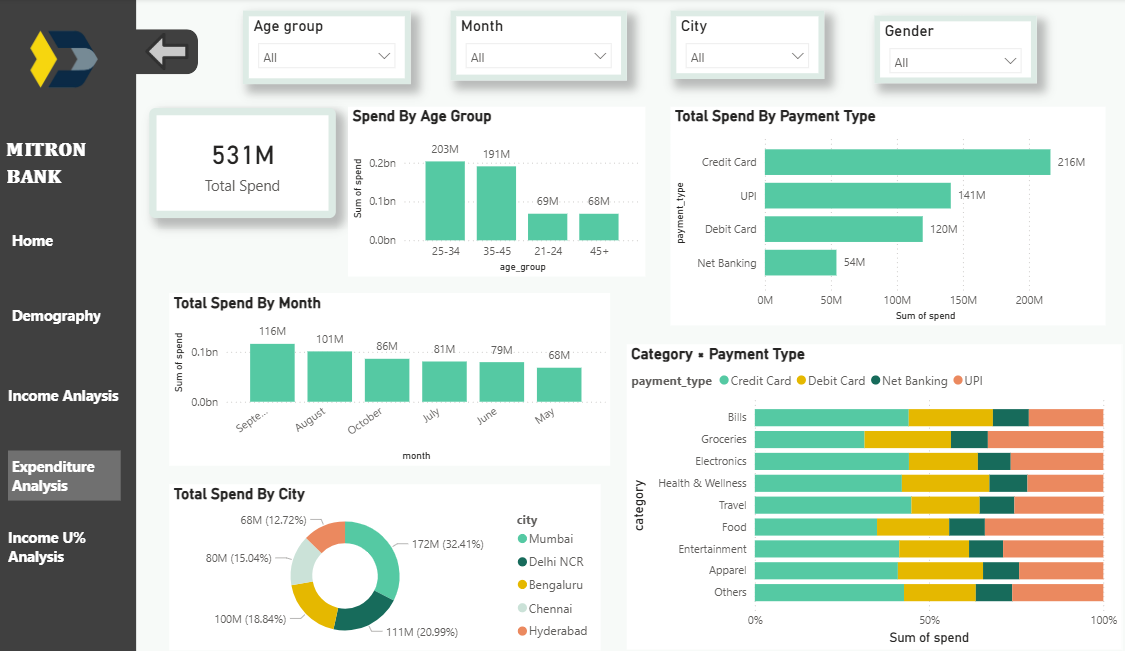

Layout of this report page (visuals, bound fields, positions):
{"tool":"powerbi","page":{"name":"Expenditure Analysis","canvas":[1280,720],"ordinal":3},"visuals":[{"type":"image","box":[6.2,0,142.5,134.3],"z":0,"group":"g1"},{"type":"card","fields":{"Values":["dim_customers_mitron_bank.Total Spend"]},"box":[171.5,120.8,204.5,120.8],"z":0},{"type":"textbox","box":[8.4,109.1,108.8,111.2],"z":1000,"group":"g1"},{"type":"clusteredColumnChart","title":"Spend By Age Group","fields":{"Category":["dim_customers_mitron_bank.age_group"],"Y":["Sum(fact_spends mitron_bank.spend)"]},"box":[389.7,119.4,326.6,186.6],"z":1000},{"type":"clusteredColumnChart","title":"Total Spend By Month","fields":{"Category":["fact_spends mitron_bank.month"],"Y":["Sum(fact_spends mitron_bank.spend)"]},"box":[193.5,323.8,484.4,189.4],"z":2000},{"type":"donutChart","title":"Total Spend By City","fields":{"Category":["dim_customers_mitron_bank.city"],"Y":["Sum(fact_spends mitron_bank.spend)"]},"box":[193.5,533.8,473.4,182.5],"z":3000},{"type":"hundredPercentStackedBarChart","title":"Category × Payment Type","fields":{"Category":["fact_spends mitron_bank.category"],"Y":["Sum(fact_spends mitron_bank.spend)"],"Series":["fact_spends mitron_bank.payment_type"]},"box":[695.7,380.1,543.4,334.8],"z":4000},{"type":"clusteredBarChart","title":"Total Spend By Payment Type","fields":{"Category":["fact_spends mitron_bank.payment_type"],"Y":["Sum(fact_spends mitron_bank.spend)"]},"box":[743.7,119.4,477.5,240.1],"z":5000},{"type":"slicer","title":"Age group","fields":{"Values":["dim_customers_mitron_bank.age_group"]},"box":[274.4,13.7,183.9,81],"z":6000},{"type":"slicer","title":"Month","fields":{"Values":["fact_spends mitron_bank.month"]},"box":[502.2,13.7,193.5,76.8],"z":7000},{"type":"slicer","title":"City","fields":{"Values":["dim_customers_mitron_bank.city"]},"box":[743.7,13.7,168.8,75.5],"z":8000},{"type":"slicer","title":"Gender","fields":{"Values":["dim_customers_mitron_bank.gender"]},"box":[967.4,19.2,178.4,74.1],"z":9000},{"type":"shape","box":[-3.8,0,161.2,720],"z":10000},{"type":"shape","box":[156.4,34.3,68.6,49.4],"z":11000},{"type":"group","id":"g1","title":"Group 1","box":[6.2,0,142.5,220],"z":12000},{"type":"actionButton","box":[16.3,241.9,193,48.8],"z":13000},{"type":"actionButton","box":[16.3,324.4,193,48.8],"z":14000},{"type":"actionButton","box":[12.5,411.9,147.8,48.9],"z":15000},{"type":"actionButton","box":[16.2,496.2,123.8,55],"z":16000},{"type":"actionButton","box":[12.3,572.2,144.1,59],"z":17000},{"type":"image","box":[159.2,20.6,63.1,75.5],"z":18000}]}

Visuals, with their boxes on the page's 1280x720 design canvas (x1, y1, x2, y2). These are canvas units, not pixel positions in the 1125x651 screenshot, which may show the page scaled, cropped or inside an application window:
image: (x1=6, y1=0, x2=149, y2=134)
card - dim_customers_mitron_bank.Total Spend: (x1=172, y1=121, x2=376, y2=242)
textbox: (x1=8, y1=109, x2=117, y2=220)
"Spend By Age Group" clusteredColumnChart: (x1=390, y1=119, x2=716, y2=306)
"Total Spend By Month" clusteredColumnChart: (x1=194, y1=324, x2=678, y2=513)
"Total Spend By City" donutChart: (x1=194, y1=534, x2=667, y2=716)
"Category × Payment Type" hundredPercentStackedBarChart: (x1=696, y1=380, x2=1239, y2=715)
"Total Spend By Payment Type" clusteredBarChart: (x1=744, y1=119, x2=1221, y2=360)
"Age group" slicer: (x1=274, y1=14, x2=458, y2=95)
"Month" slicer: (x1=502, y1=14, x2=696, y2=90)
"City" slicer: (x1=744, y1=14, x2=912, y2=89)
"Gender" slicer: (x1=967, y1=19, x2=1146, y2=93)
shape: (x1=-4, y1=0, x2=157, y2=720)
shape: (x1=156, y1=34, x2=225, y2=84)
"Group 1" group: (x1=6, y1=0, x2=149, y2=220)
actionButton: (x1=16, y1=242, x2=209, y2=291)
actionButton: (x1=16, y1=324, x2=209, y2=373)
actionButton: (x1=12, y1=412, x2=160, y2=461)
actionButton: (x1=16, y1=496, x2=140, y2=551)
actionButton: (x1=12, y1=572, x2=156, y2=631)
image: (x1=159, y1=21, x2=222, y2=96)
